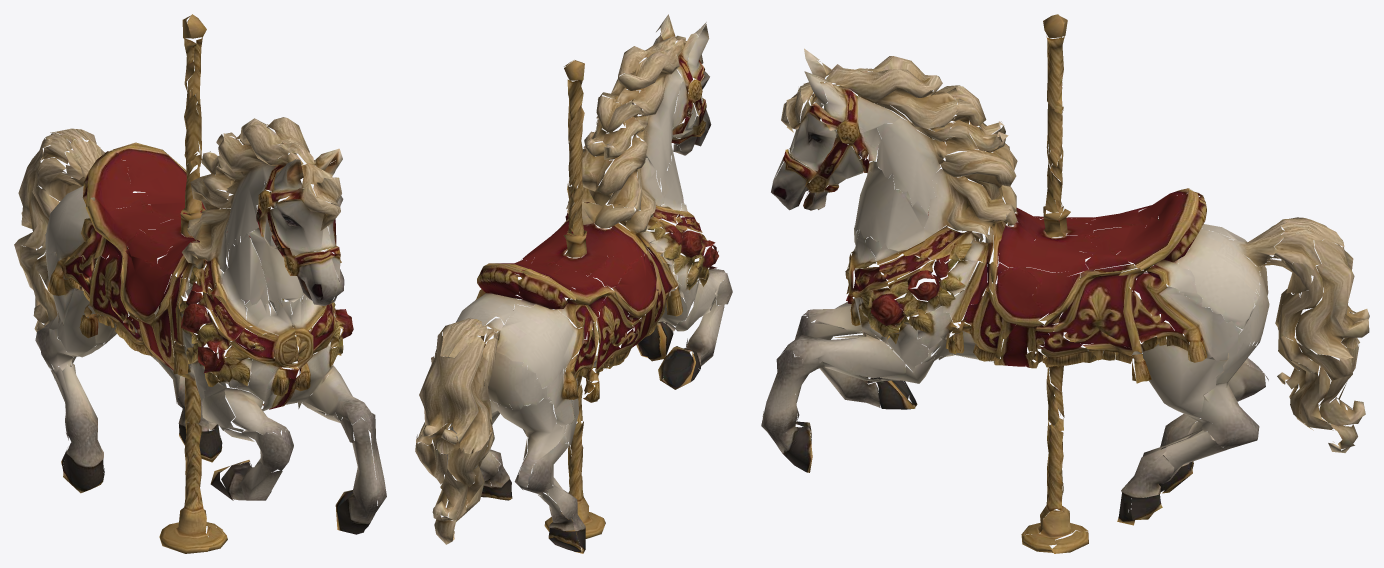
Rendered from h_carousel_horse.glb.
3 views of the same model, side by side, from view 1: azimuth 30°, elevation 25°; view 2: azimuth 150°, elevation 25°; view 3: azimuth 270°, elevation 25° (orthographic). The views are drawn at different scales.
Parts seen in each view (by area): view 1: tripo_node_2702032e-0284-419a-af09-f0744ad528bf; view 2: tripo_node_2702032e-0284-419a-af09-f0744ad528bf; view 3: tripo_node_2702032e-0284-419a-af09-f0744ad528bf.
Boxes of the visible parts, x1,y1,x2,y2 form: tripo_node_2702032e-0284-419a-af09-f0744ad528bf: (14, 14, 386, 553); tripo_node_2702032e-0284-419a-af09-f0744ad528bf: (415, 14, 732, 553); tripo_node_2702032e-0284-419a-af09-f0744ad528bf: (761, 14, 1369, 553).
Size of the model in its own units: 0.2827 by 0.9329 by 0.9796.
Materials: 1 (1 with a texture image).
